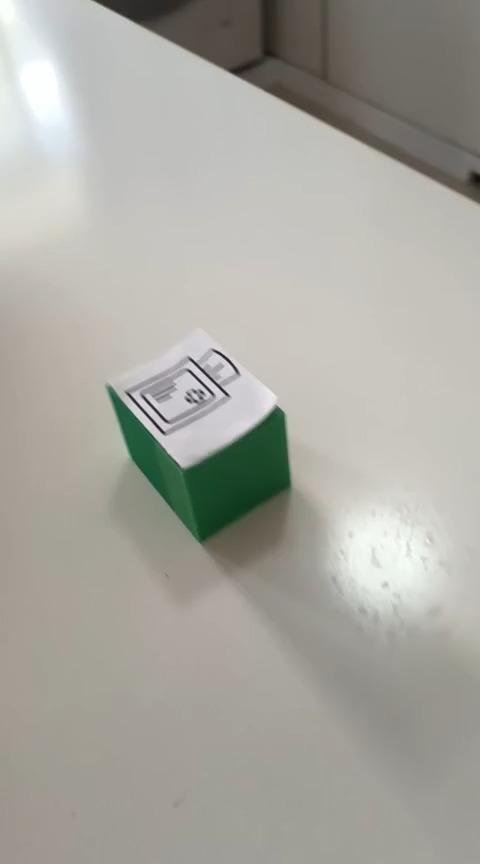Gauze: (103, 325, 292, 544)
